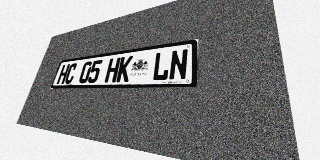0: (78, 61, 93, 83)
5: (87, 60, 103, 83)
C: (64, 63, 78, 84)
H: (104, 57, 121, 83), (56, 64, 70, 84)
K: (116, 56, 133, 82)
L: (151, 51, 171, 81)
N: (168, 48, 188, 80)
